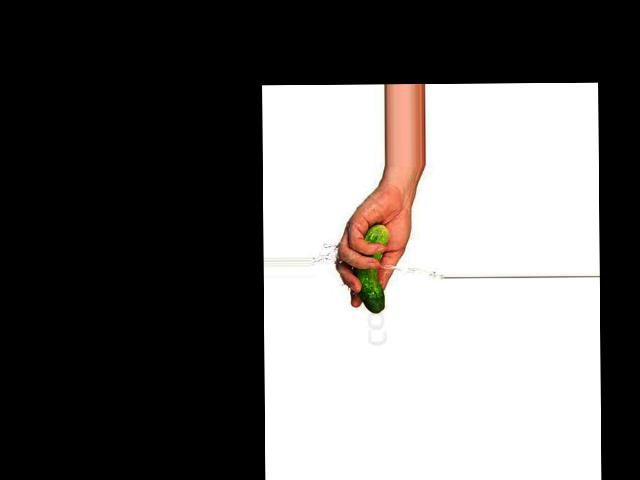cucumber: (355, 224, 388, 313)
